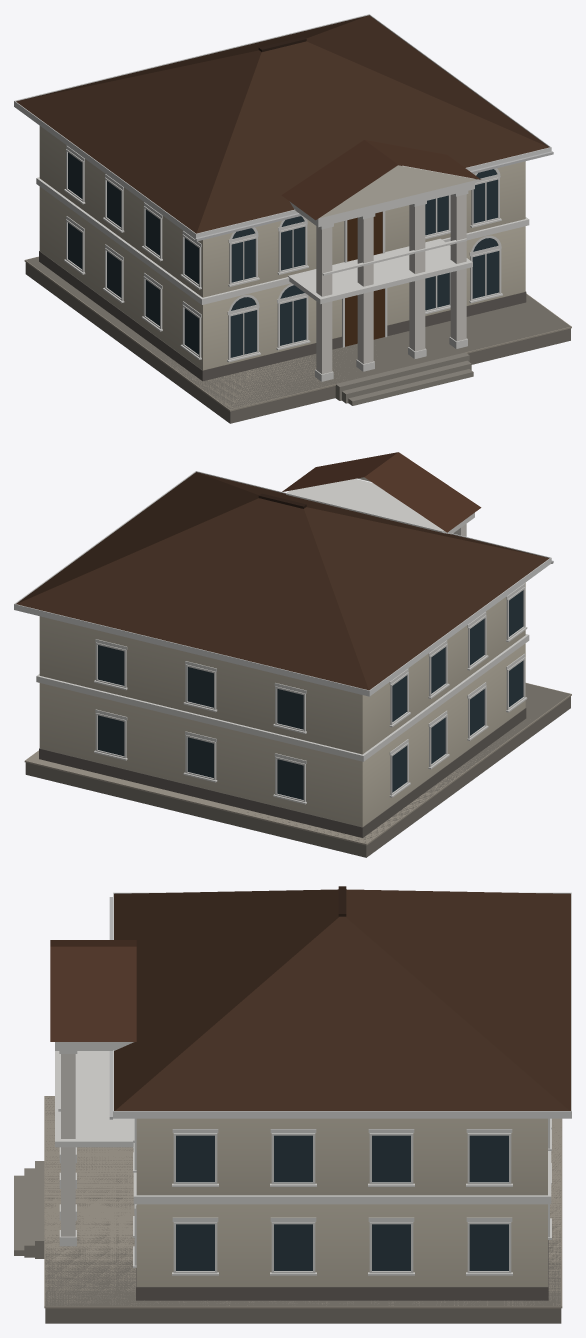
Rendered from ns_dup2_lod1.glb.
3 renders of one model, top to bottom at view 1: azimuth 30°, elevation 25°; view 2: azimuth 150°, elevation 25°; view 3: azimuth 270°, elevation 25°, orthographic. The views are drawn at different scales.
Parts seen in each view (by area): view 1: ns_dup2_lod1; view 2: ns_dup2_lod1; view 3: ns_dup2_lod1.
Part boxes in pixels (left/top/right/bottom): ns_dup2_lod1: left=14, top=14, right=571, bottom=423; ns_dup2_lod1: left=14, top=452, right=571, bottom=857; ns_dup2_lod1: left=14, top=886, right=571, bottom=1323.
Size of the model in its own units: 15.92 by 10.77 by 17.09.
